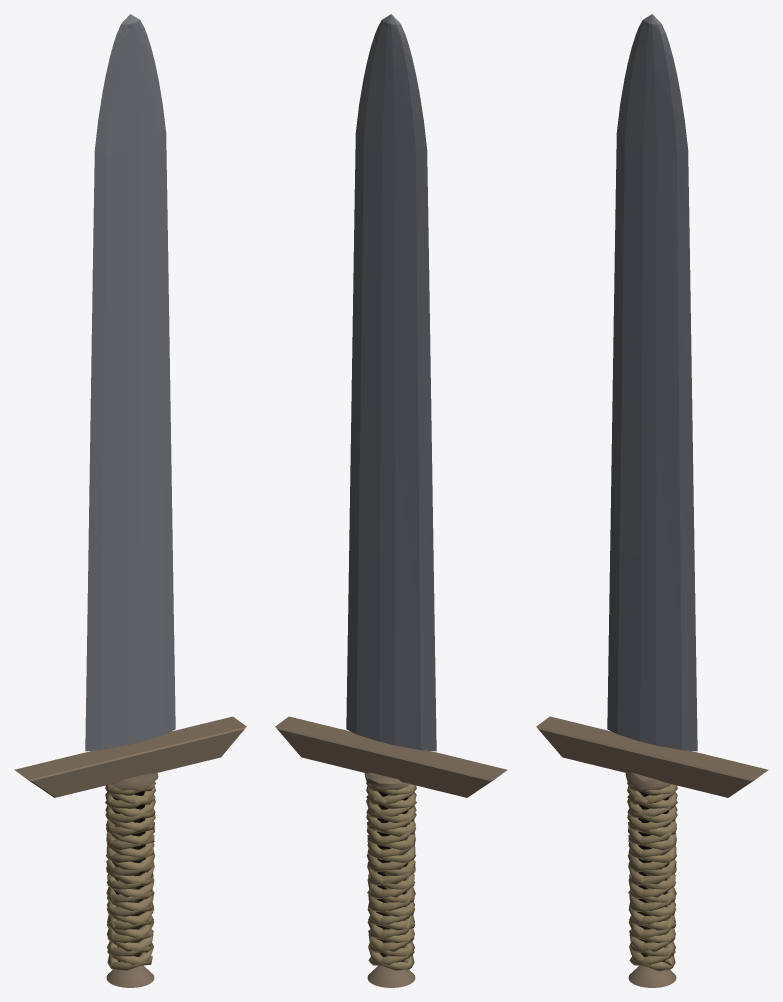
Rendered from kiem-sat-lu-khach.glb.
The picture shows the model from 3 angles, left to right: view 1: azimuth 30°, elevation 25°; view 2: azimuth 150°, elevation 25°; view 3: azimuth 330°, elevation 25°; orthographic projection.
Parts seen in each view (by area): view 1: blade, wrap, guard, pommel, grip; view 2: blade, wrap, guard, pommel; view 3: blade, wrap, guard, pommel.
Part boxes in pixels (<box>): blade: <box>85,14,175,751</box>; wrap: <box>105,781,155,970</box>; guard: <box>14,716,246,797</box>; pommel: <box>106,965,154,987</box>; grip: <box>112,791,145,961</box>; blade: <box>346,14,436,751</box>; wrap: <box>366,782,416,970</box>; guard: <box>275,716,507,797</box>; pommel: <box>367,965,415,987</box>; blade: <box>607,14,697,751</box>; wrap: <box>627,782,677,971</box>; guard: <box>536,716,768,797</box>; pommel: <box>628,965,676,987</box>.
Size of the model in its own units: 0.3154 by 1.33 by 0.0688.
